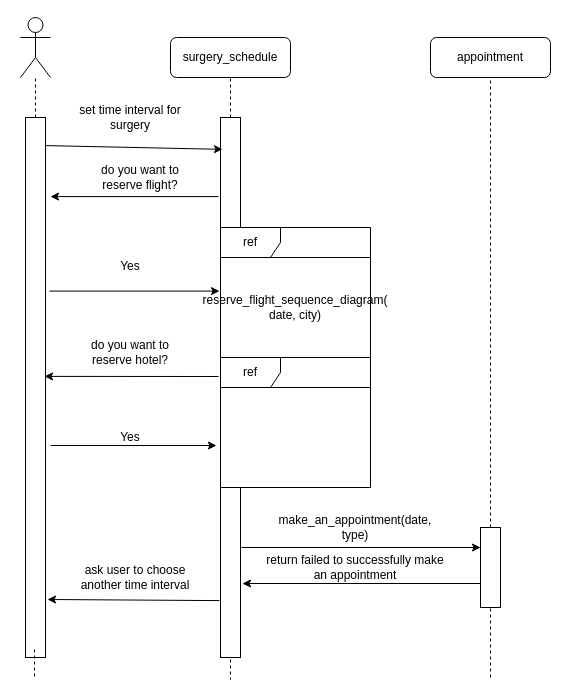
Some shapes in this 568 by 698 pixel diagram are drawn without their labels. The centre of each missing label's shape, as x and y in pixels:
"patient" goes at (x=35, y=47).
"reserve_hotel_sequence_diagram( date, city)" goes at (x=295, y=437).
